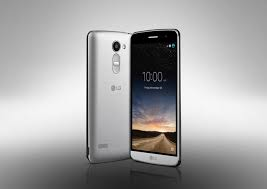lg: (124, 25, 186, 169)
